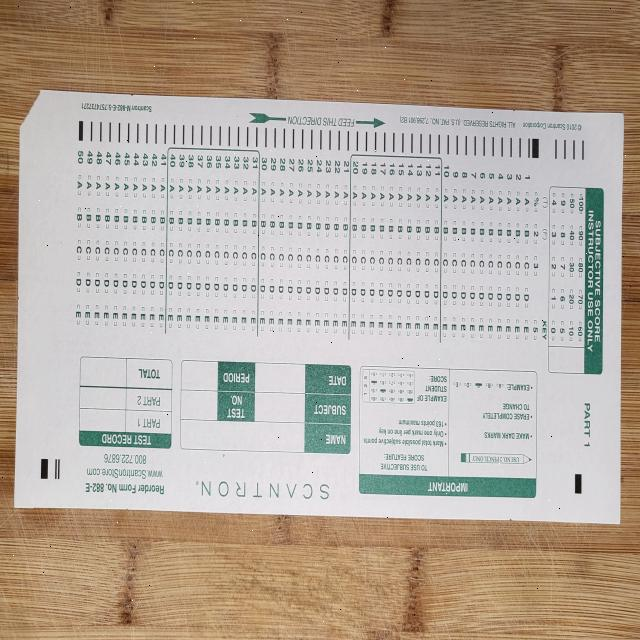scantron: (14, 89, 624, 524)
